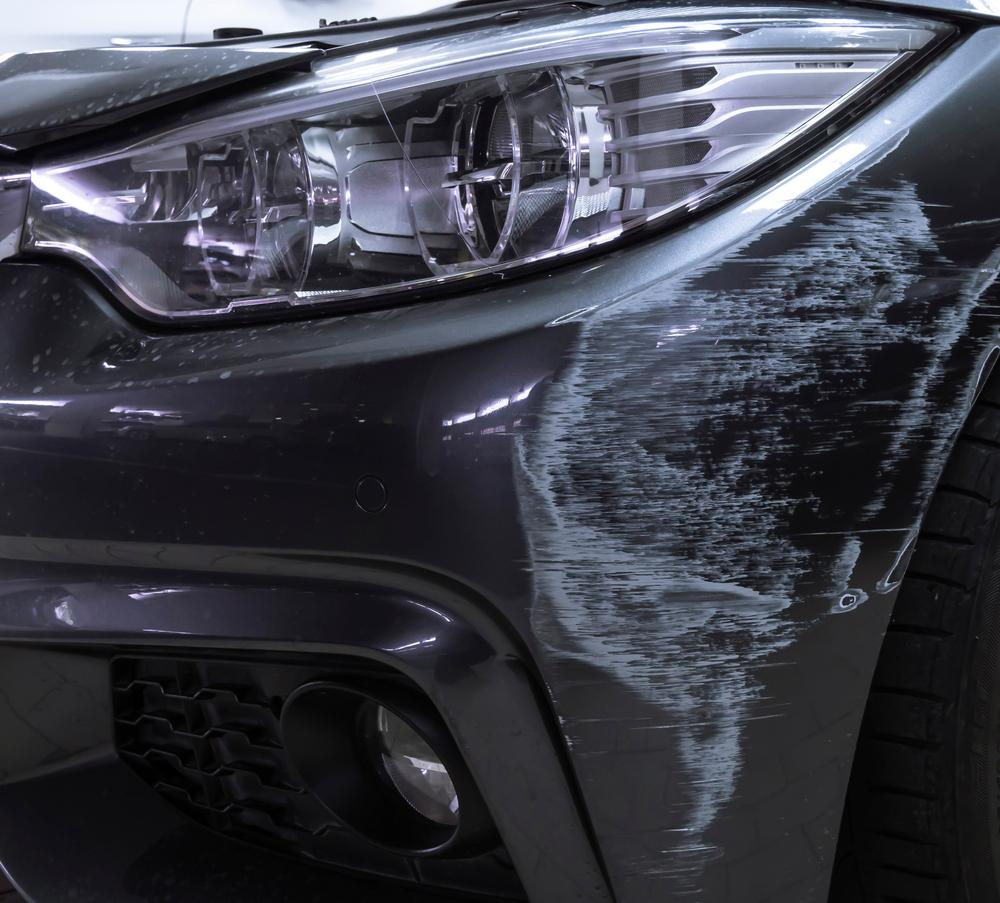scratch: (515, 123, 1000, 897)
